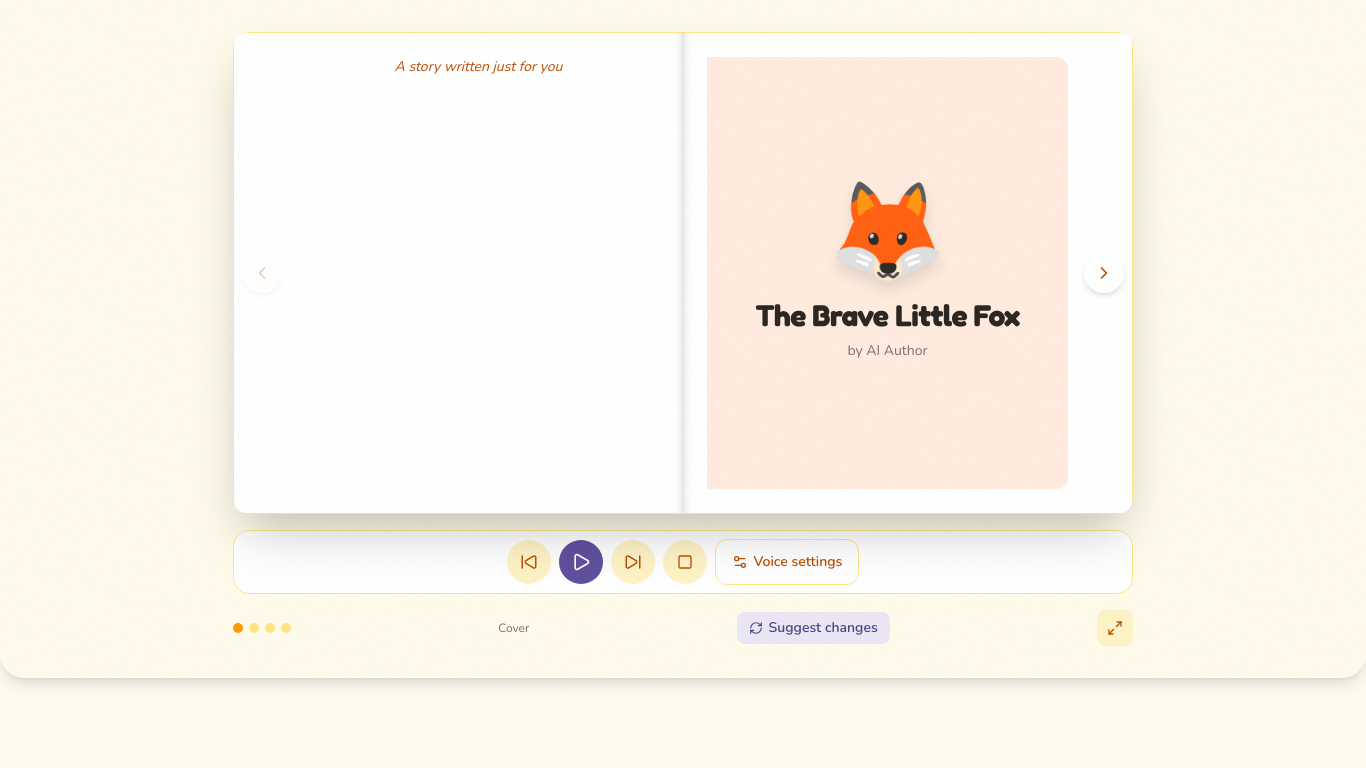
it: BookSpread — narration › renders the page text unchanged while narration is idle
The image size is (1366, 768).
Click the button named "Next spread" at (1104, 273), box [1084,253,1124,293]
Wait 254 ms
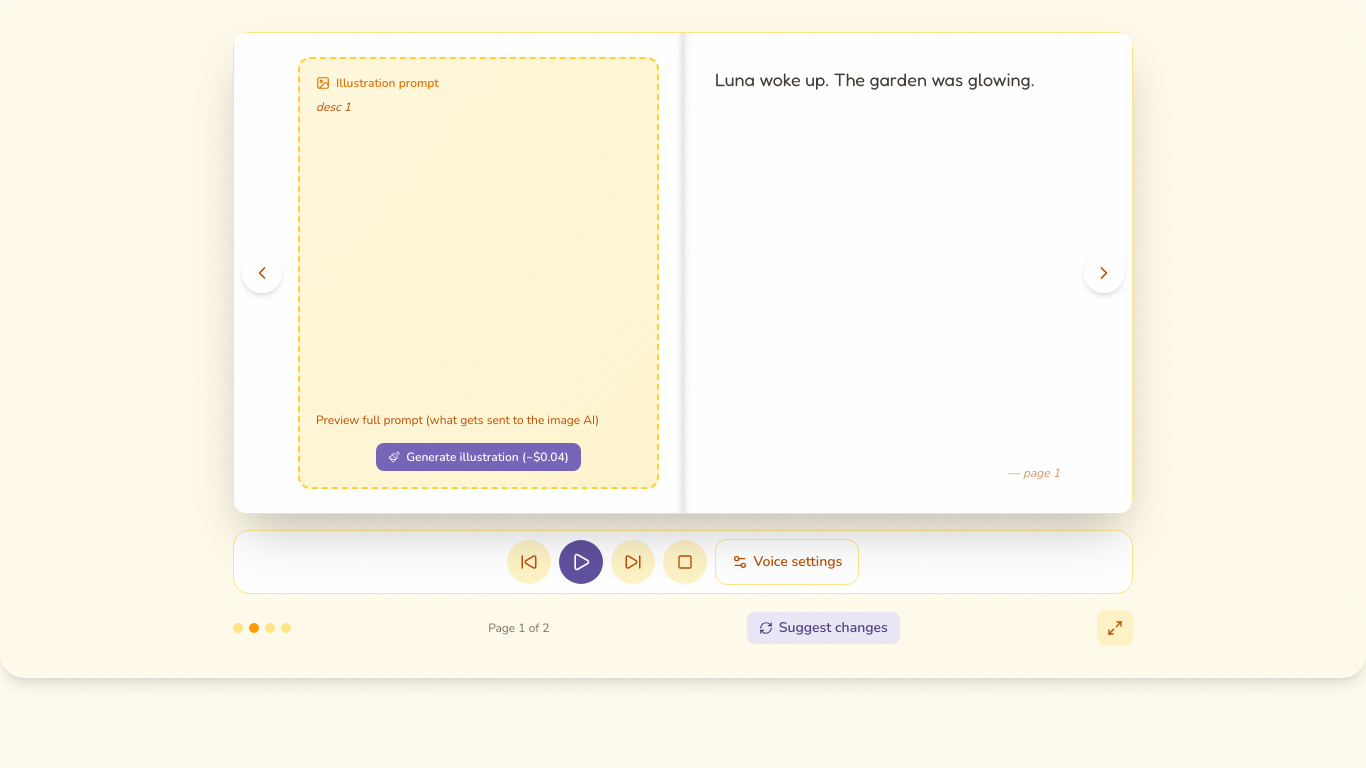
Expected: the text "Luna woke up. The garden was glowing." is shown, [715,65,1060,94]
